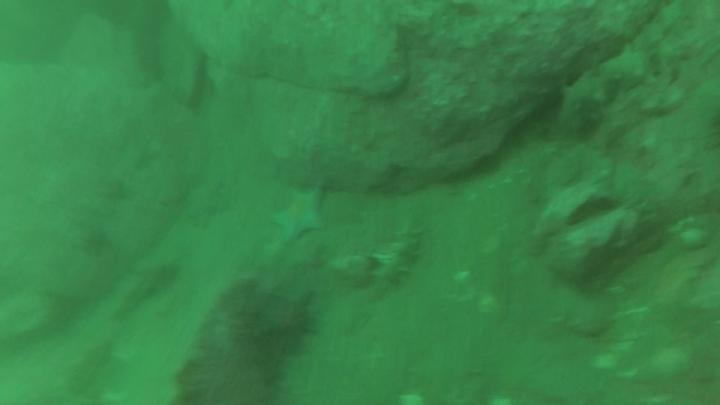holothurian: (557, 51, 648, 135), (374, 225, 424, 291)
starfish: (273, 185, 325, 241)
